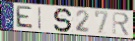2: (75, 9, 91, 34)
7: (93, 10, 111, 36)
E: (15, 5, 34, 30)
I: (38, 6, 43, 31)
R: (112, 11, 131, 37)
S: (53, 8, 75, 34)
